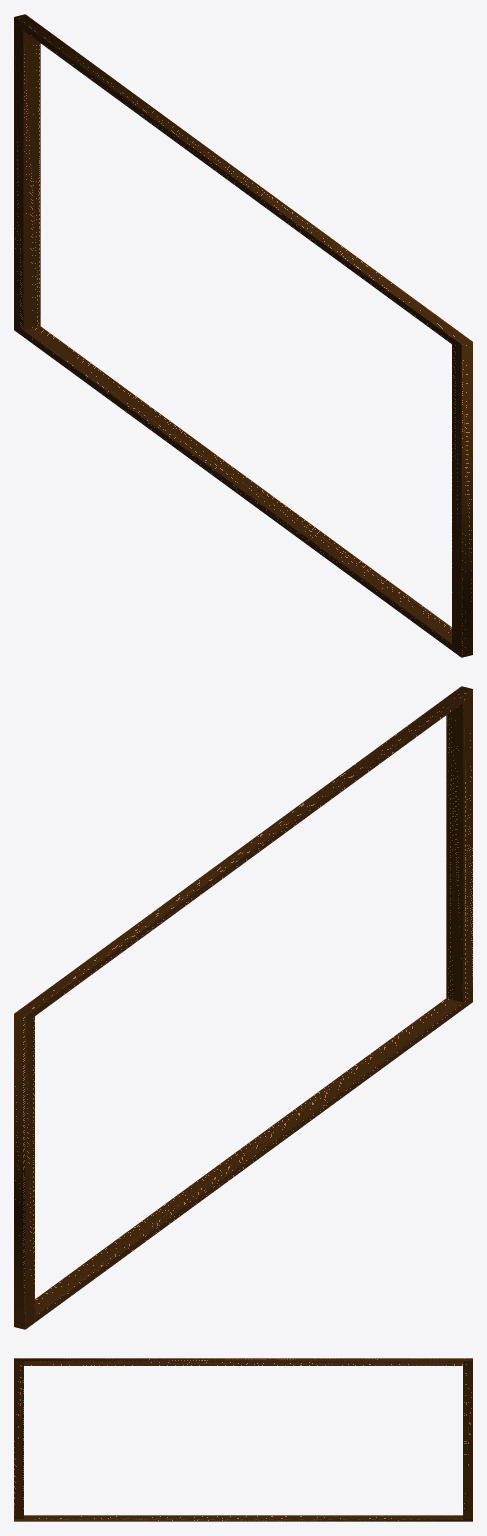
File: WindowFrame2.obj
The picture shows the model from 3 angles, top to bottom: view 1: azimuth 30°, elevation 25°; view 2: azimuth 150°, elevation 25°; view 3: azimuth 270°, elevation 25°; orthographic projection. The views are drawn at different scales.
Parts seen in each view (by area): view 1: WindowFrame2_Plane.013; view 2: WindowFrame2_Plane.013; view 3: WindowFrame2_Plane.013.
Boxes of the visible parts, box(x1,y1,x2,y2) form: WindowFrame2_Plane.013: box(14, 14, 472, 657); WindowFrame2_Plane.013: box(14, 686, 472, 1329); WindowFrame2_Plane.013: box(14, 1358, 472, 1521).
Size of the model in its own units: 0.3 by 5.25 by 13.59.
